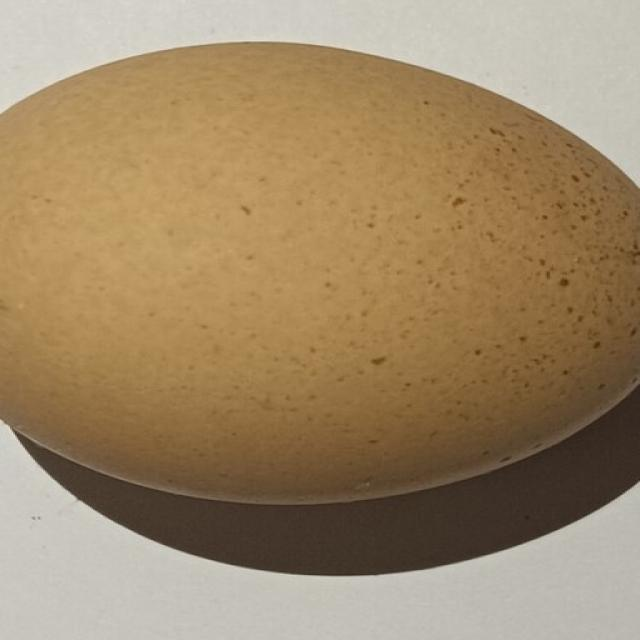unfresh: (0, 31, 640, 511)
